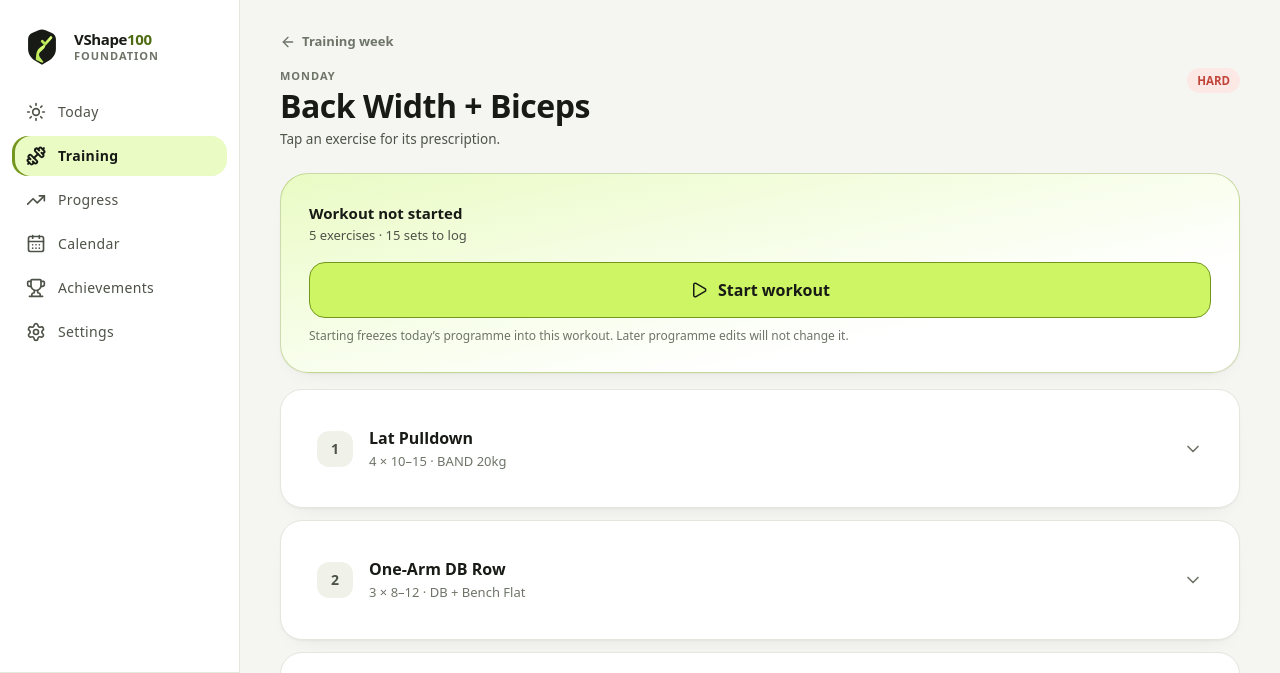
Test: 2–5. accordion behaviour › 2. expands the activated exercise
Step 1. Click the button "1 Lat Pulldown 4 × 10–15 · BAND 20kg" → [335, 449], box [301,410,1219,488]
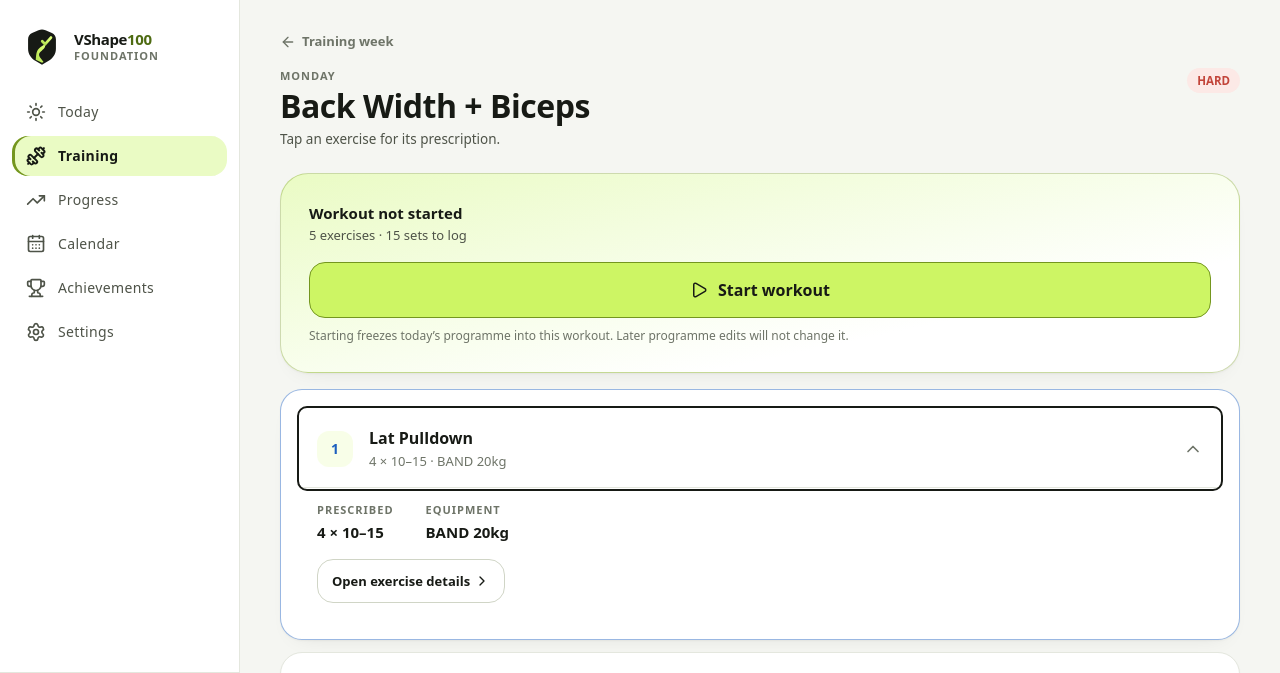
Expected: the text "4 × 10–15" is shown, [317,521,394,544]
